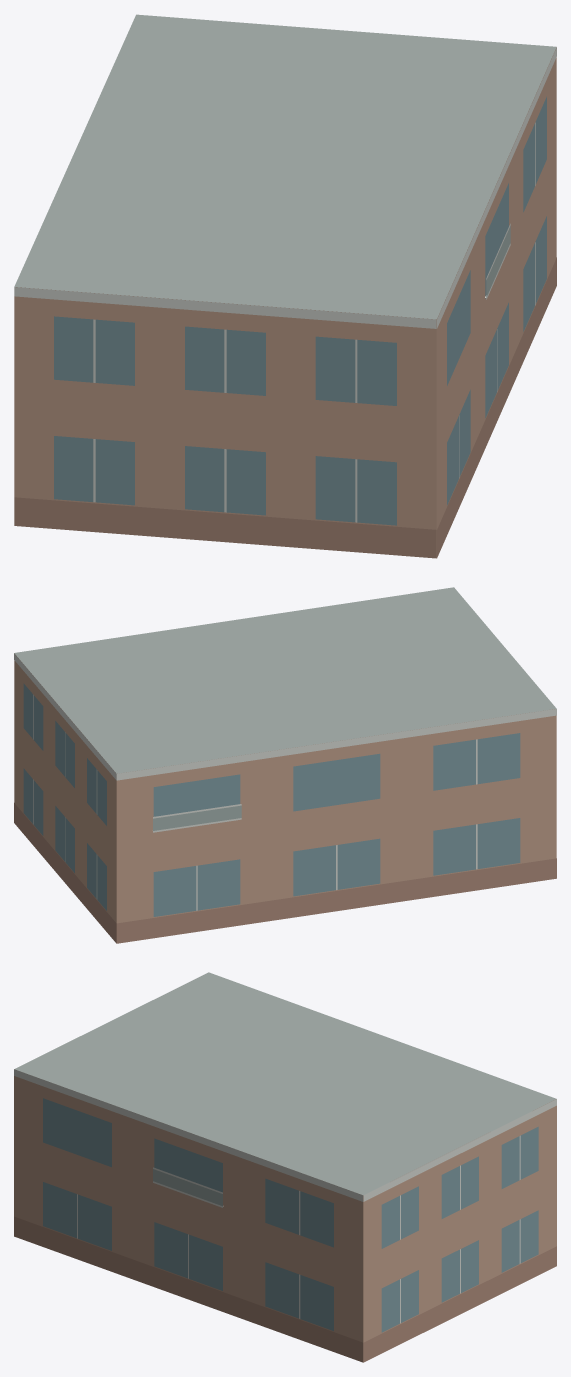
File: survey-upis-32687329.glb
The picture shows the model from 3 angles, top to bottom: view 1: azimuth 30°, elevation 25°; view 2: azimuth 150°, elevation 25°; view 3: azimuth 270°, elevation 25°; orthographic projection. The views are drawn at different scales.
Visible parts, largest first — view 1: survey-upis-32687329.tmp; view 2: survey-upis-32687329.tmp; view 3: survey-upis-32687329.tmp.
Part boxes in pixels (bbox=[...]): survey-upis-32687329.tmp: bbox=[14, 14, 556, 558]; survey-upis-32687329.tmp: bbox=[14, 587, 556, 943]; survey-upis-32687329.tmp: bbox=[14, 972, 556, 1362].
Size of the model in its own units: 17.45 by 6.1 by 17.94.
